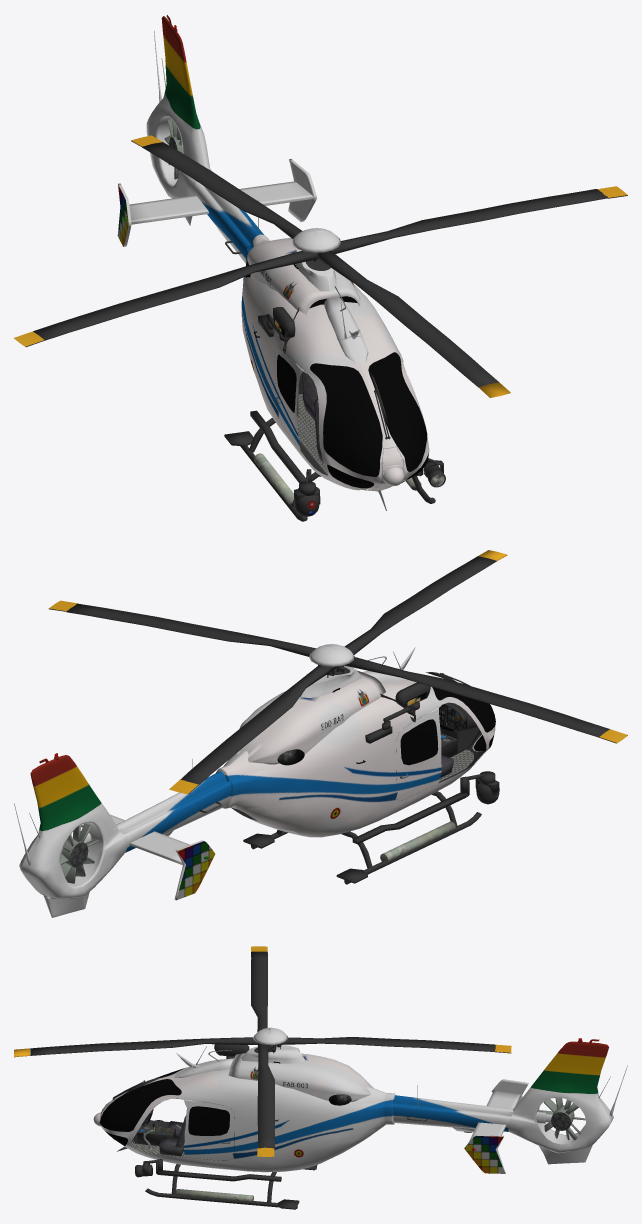
The model's file is heli.glb.
The picture shows the model from 3 angles, top to bottom: view 1: azimuth 30°, elevation 25°; view 2: azimuth 150°, elevation 25°; view 3: azimuth 270°, elevation 25°; orthographic projection. The views are drawn at different scales.
Visible parts, largest first — view 1: chassis, static_rotor; view 2: chassis, static_rotor; view 3: chassis, static_rotor.
Part boxes in pixels (x1,y1,x2,y2): chassis: (117,15,445,521); static_rotor: (14,135,627,397); chassis: (14,644,499,917); static_rotor: (48,550,627,794); chassis: (93,1027,627,1209); static_rotor: (14,946,511,1156).
Size of the model in its own units: 4.86 by 1.89 by 6.01.
4 materials, 3 textured.
